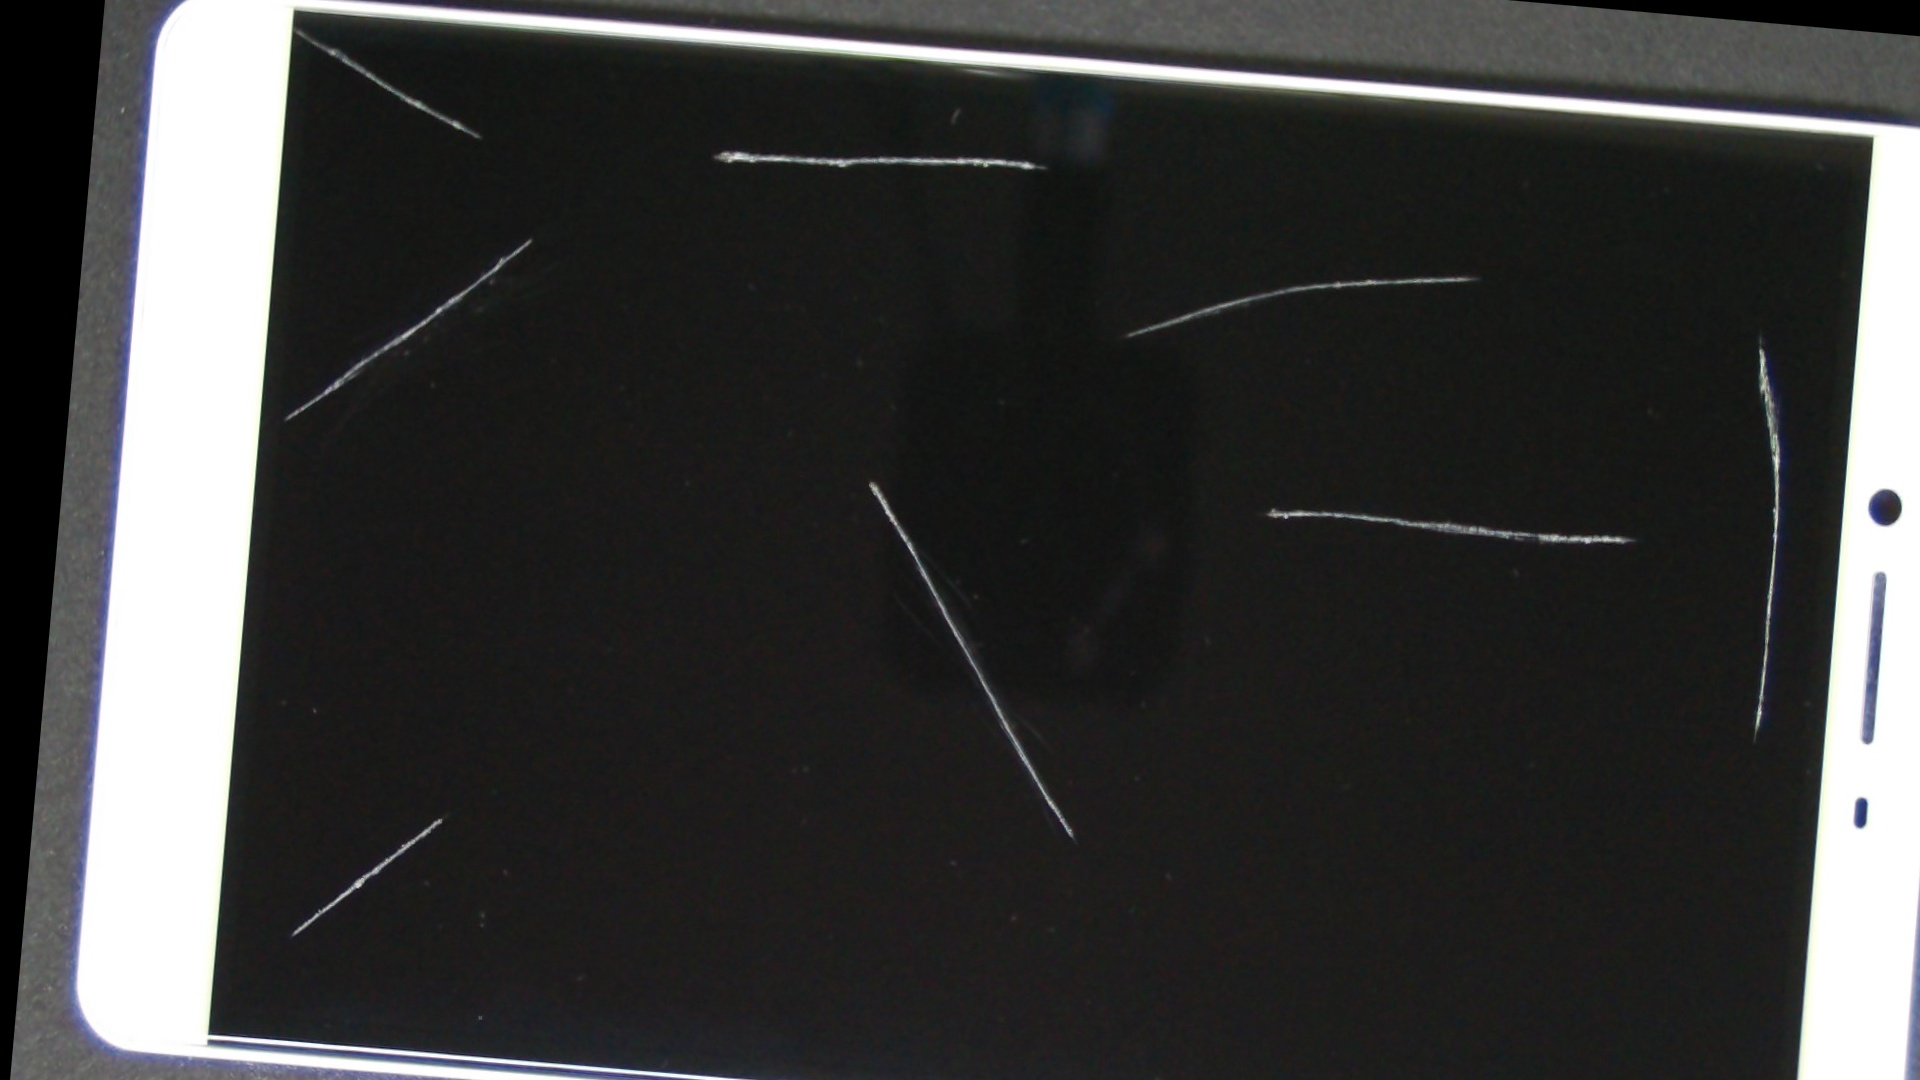oil: (687, 194, 1920, 828), (448, 178, 1295, 782), (765, 76, 1920, 464), (910, 96, 1920, 518), (212, 347, 686, 1080), (538, 17, 1451, 297), (299, 53, 762, 421), (193, 0, 396, 104)
